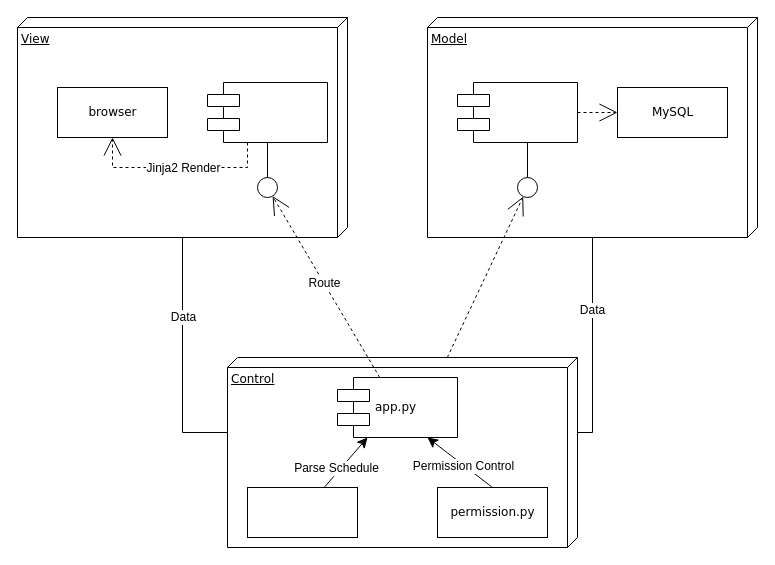
This 775x565 diagram has some shape labels left out. The centre of each missing label's shape, as x and y in pixels:
"Models" goes at [517,112].
"templates" goes at [267,112].
"tool.py" goes at [302,512].
